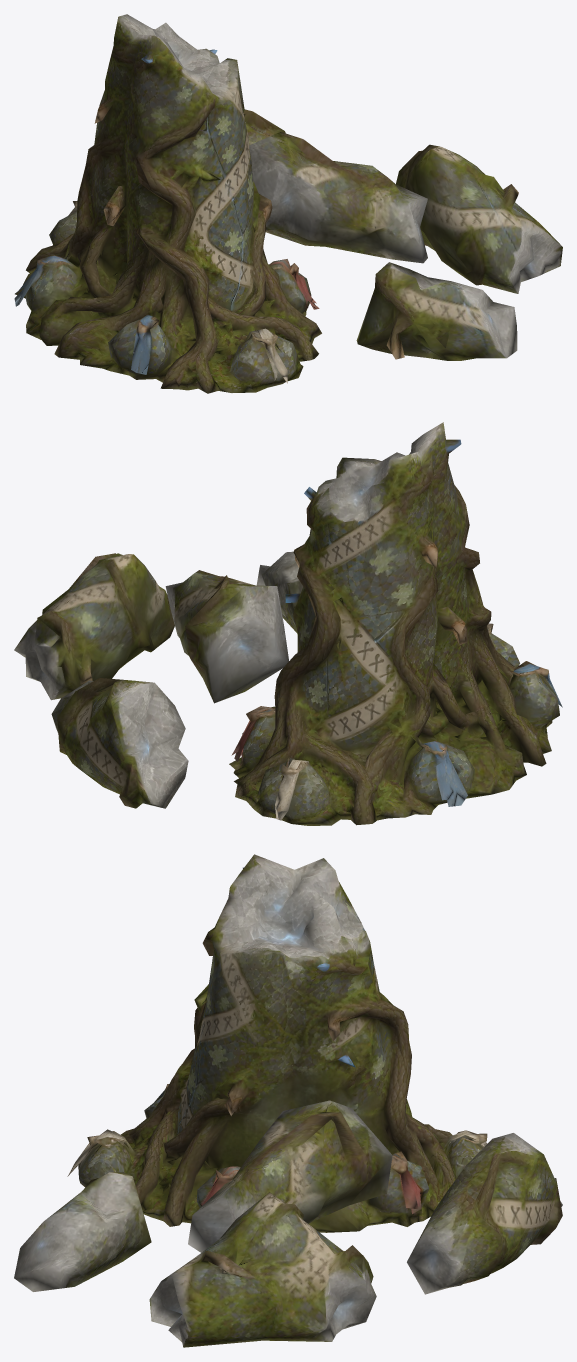
File: soporte-petreo-roto.glb
3 renders of one model, top to bottom at view 1: azimuth 30°, elevation 25°; view 2: azimuth 150°, elevation 25°; view 3: azimuth 270°, elevation 25°, orthographic. The views are drawn at different scales.
Visible parts, largest first — view 1: tripo_node_2370e736-b3a5-430a-aacd-f242f259edbe; view 2: tripo_node_2370e736-b3a5-430a-aacd-f242f259edbe; view 3: tripo_node_2370e736-b3a5-430a-aacd-f242f259edbe.
Boxes of the visible parts, x1,y1,x2,y2 form: tripo_node_2370e736-b3a5-430a-aacd-f242f259edbe: (14, 14, 562, 393); tripo_node_2370e736-b3a5-430a-aacd-f242f259edbe: (14, 422, 562, 825); tripo_node_2370e736-b3a5-430a-aacd-f242f259edbe: (14, 854, 562, 1347).
Bounding box in the file's own units: 0.9731 × 0.5888 × 0.9451.
1 material, 1 textured.
